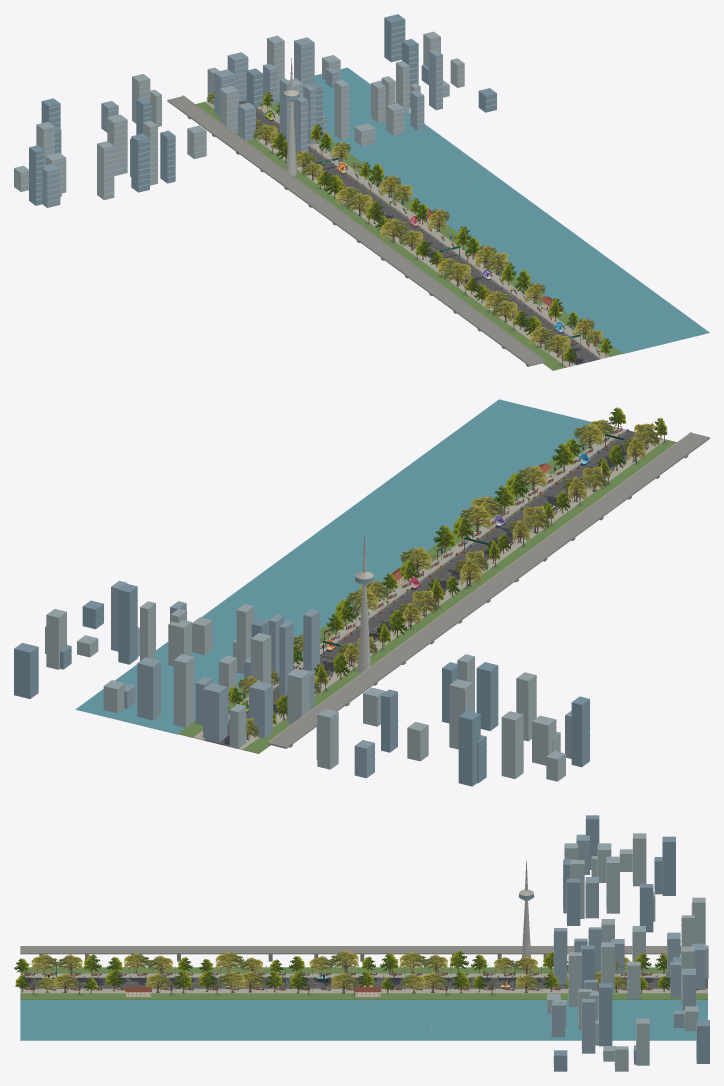
The model's file is caribana-tablet.glb.
3 views of the same model, one above another, from view 1: azimuth 30°, elevation 25°; view 2: azimuth 150°, elevation 25°; view 3: azimuth 270°, elevation 25° (orthographic). The views are drawn at different scales.
Visible parts, largest first — view 1: Toronto_skyline, Parade_00, Parade_02, Parade_10, Parade_06, Parade_08, Parade_04, Parade_03, Parade_01, Parade_07, Parade_05, Parade_09 (+17 smaller); view 2: Toronto_skyline, Parade_01, Parade_05, Parade_03, Parade_00, Parade_02, Parade_07, Parade_06, Parade_04, Parade_08, Parade_09, Parade_14 (+17 smaller); view 3: Toronto_skyline, Parade_10, Parade_06, Parade_07, Parade_01, Parade_05, Parade_00, Parade_02, Parade_09, Parade_03, Parade_08, Parade_04 (+17 smaller).
Part boxes in pixels (bbox=[...]): Toronto_skyline: bbox=[14, 14, 497, 207]; Parade_00: bbox=[505, 315, 709, 370]; Parade_02: bbox=[457, 279, 661, 333]; Parade_10: bbox=[264, 138, 467, 192]; Parade_06: bbox=[360, 209, 564, 262]; Parade_08: bbox=[312, 173, 516, 227]; Parade_04: bbox=[408, 244, 612, 298]; Parade_03: bbox=[433, 262, 636, 316]; Parade_01: bbox=[481, 297, 685, 351]; Parade_07: bbox=[336, 191, 540, 245]; Parade_05: bbox=[384, 226, 588, 280]; Parade_09: bbox=[288, 156, 491, 209]; Toronto_skyline: bbox=[14, 534, 590, 786]; Parade_01: bbox=[443, 420, 681, 483]; Parade_05: bbox=[330, 503, 568, 565]; Parade_03: bbox=[386, 461, 625, 524]; Parade_00: bbox=[471, 399, 709, 462]; Parade_02: bbox=[415, 440, 653, 503]; Parade_07: bbox=[273, 544, 512, 607]; Parade_06: bbox=[302, 523, 540, 586]; Parade_04: bbox=[358, 482, 596, 545]; Parade_08: bbox=[245, 564, 483, 627]; Parade_09: bbox=[217, 585, 455, 648]; Parade_14: bbox=[75, 689, 314, 753]; Toronto_skyline: bbox=[518, 815, 709, 1071]; Parade_10: bbox=[478, 946, 524, 1040]; Parade_06: bbox=[295, 946, 341, 1040]; Parade_07: bbox=[341, 946, 386, 1040]; Parade_01: bbox=[66, 946, 111, 1040]; Parade_05: bbox=[249, 946, 295, 1040]; Parade_00: bbox=[20, 946, 65, 1040]; Parade_02: bbox=[112, 946, 157, 1040]; Parade_09: bbox=[433, 946, 478, 1040]; Parade_03: bbox=[158, 946, 203, 1040]; Parade_08: bbox=[387, 946, 432, 1040]; Parade_04: bbox=[203, 946, 249, 1040].
Size of the model in its own units: 255 by 64.02 by 364.
3 materials, 2 textured.
